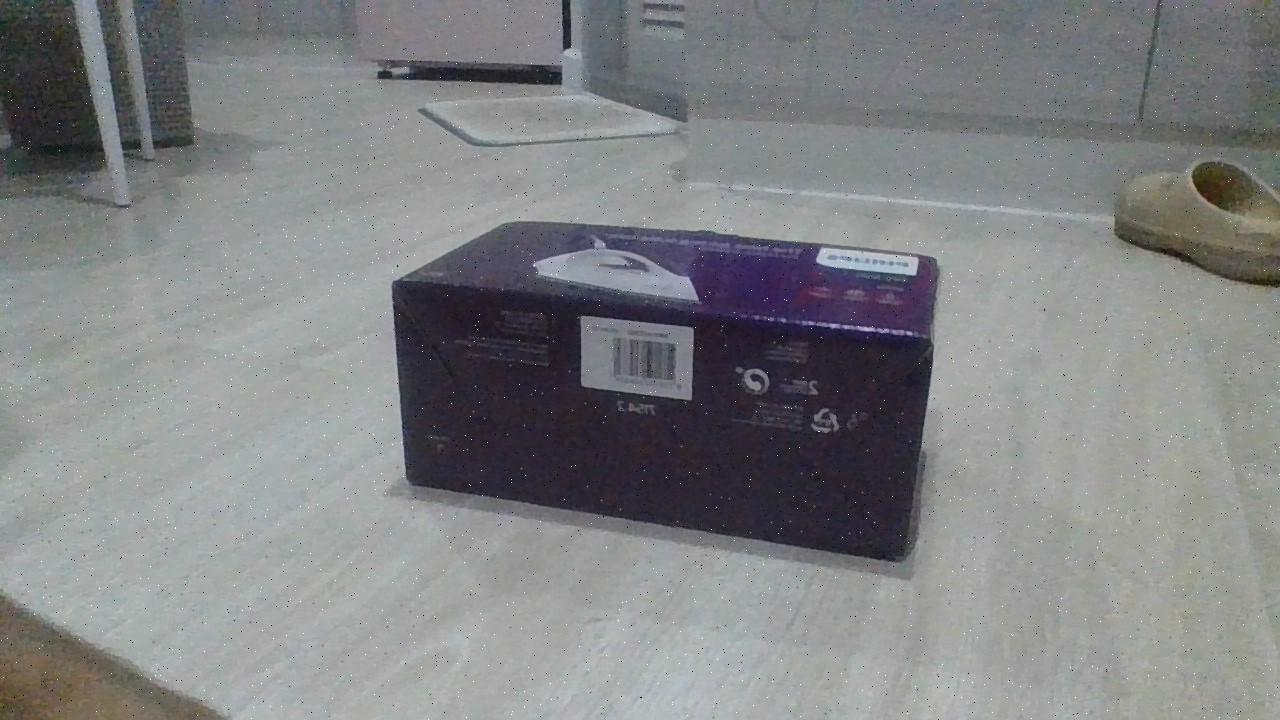IRON: (388, 216, 945, 565)
